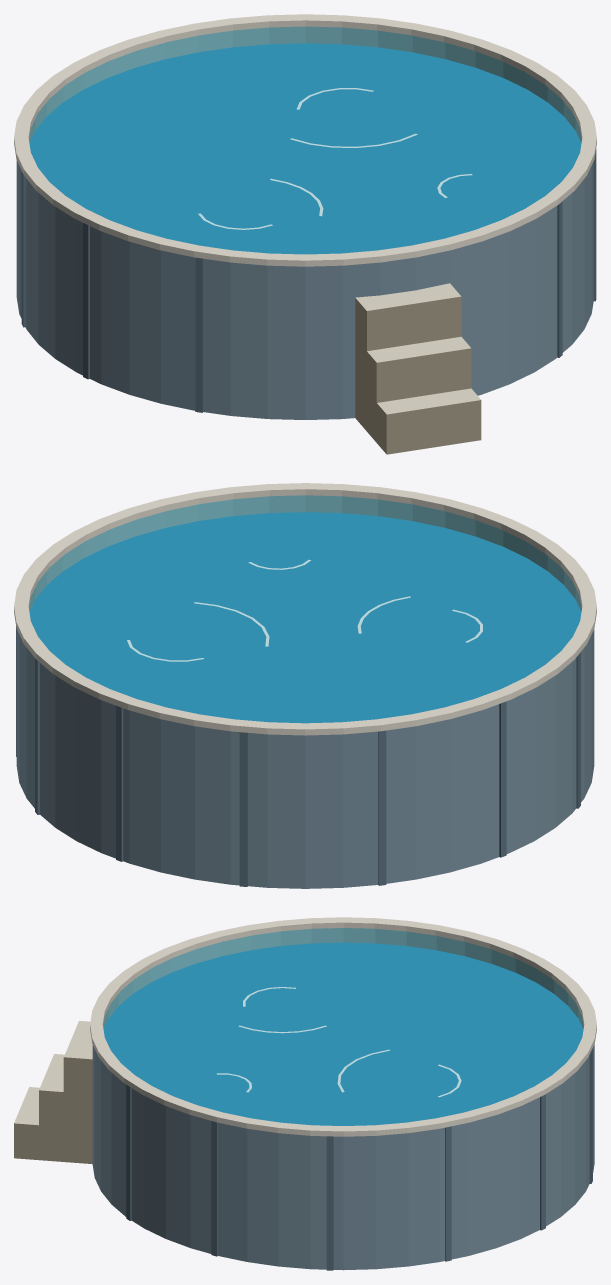
Rendered from pool_circle.glb.
The picture shows the model from 3 angles, top to bottom: view 1: azimuth 30°, elevation 25°; view 2: azimuth 150°, elevation 25°; view 3: azimuth 270°, elevation 25°; orthographic projection. The views are drawn at different scales.
Visible parts, largest first — view 1: pool_circle; view 2: pool_circle; view 3: pool_circle.
Part boxes in pixels (x1,y1,x2,y2): pool_circle: (14,14,596,454); pool_circle: (14,483,596,888); pool_circle: (14,917,596,1270).
Bounding box in the file's own units: 5.21 × 1.58 × 5.99.
